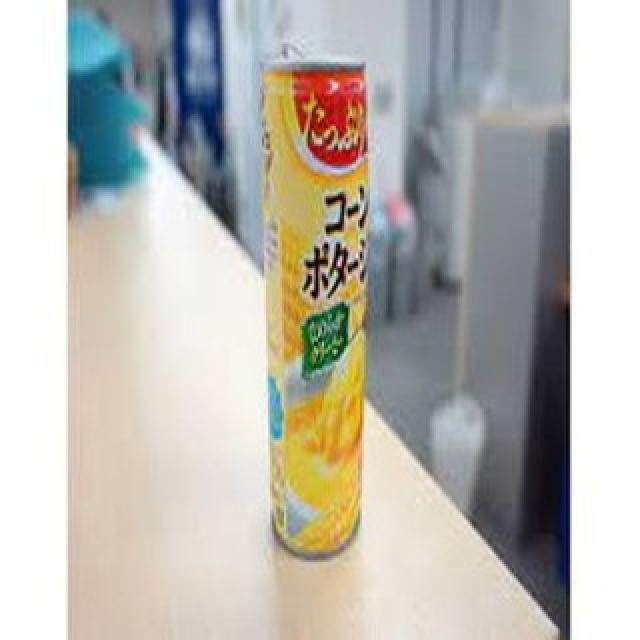can: (250, 36, 374, 568)
